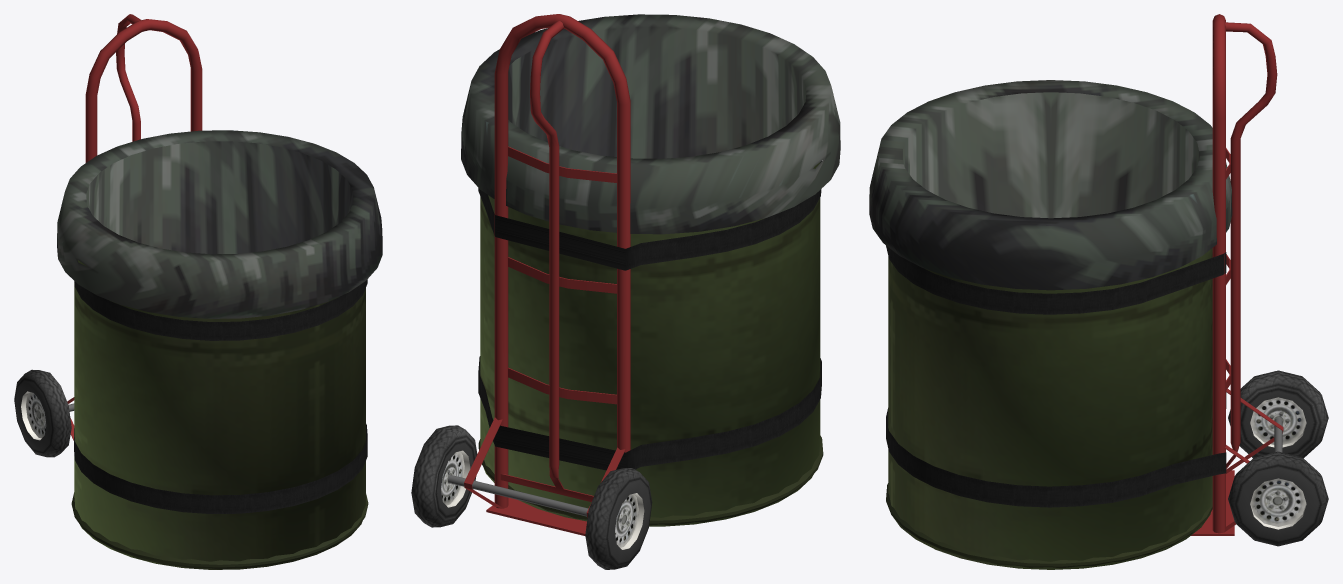
The model's file is PA_TrashBarrel.fbx.
3 renders of one model, left to right at view 1: azimuth 30°, elevation 25°; view 2: azimuth 150°, elevation 25°; view 3: azimuth 270°, elevation 25°, orthographic. The views are drawn at different scales.
Parts seen in each view (by area): view 1: Handtruck_bottom; view 2: Handtruck_bottom; view 3: Handtruck_bottom.
Part boxes in pixels (left/top/right/bottom): Handtruck_bottom: left=14, top=14, right=382, bottom=569; Handtruck_bottom: left=411, top=14, right=840, bottom=569; Handtruck_bottom: left=869, top=14, right=1328, bottom=569.
Size of the model in its own units: 0.538 by 0.7922 by 0.6804.
